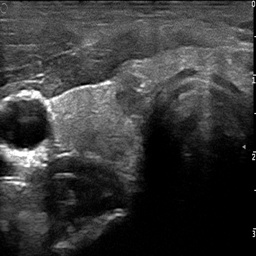mass: (114, 64, 149, 118)
